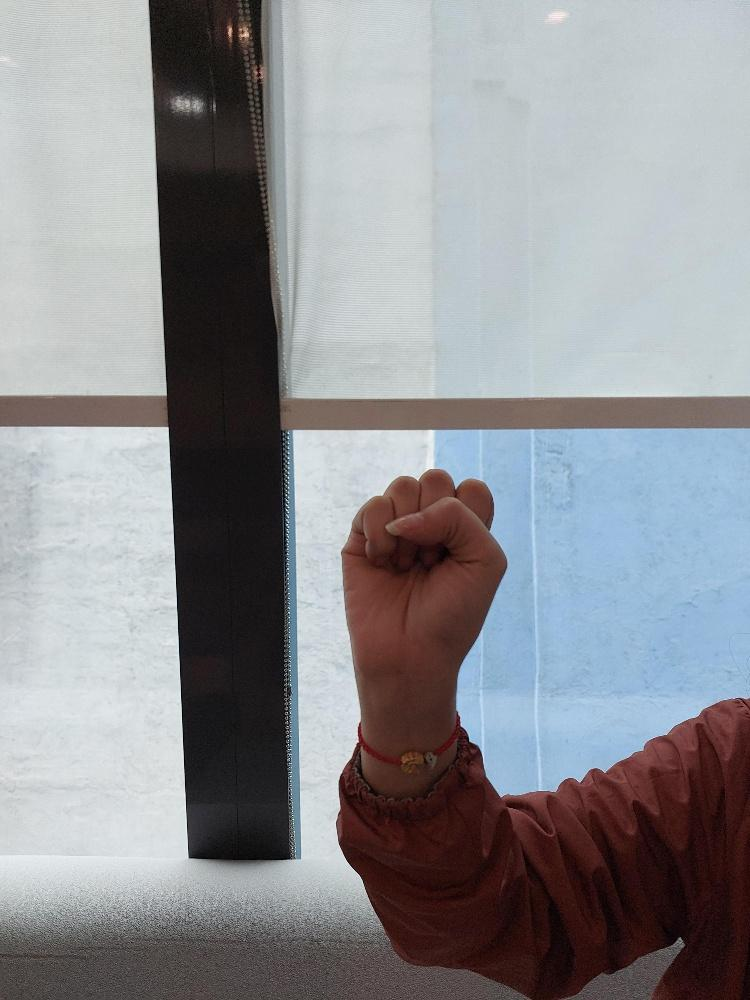s: (336, 464, 511, 694)
